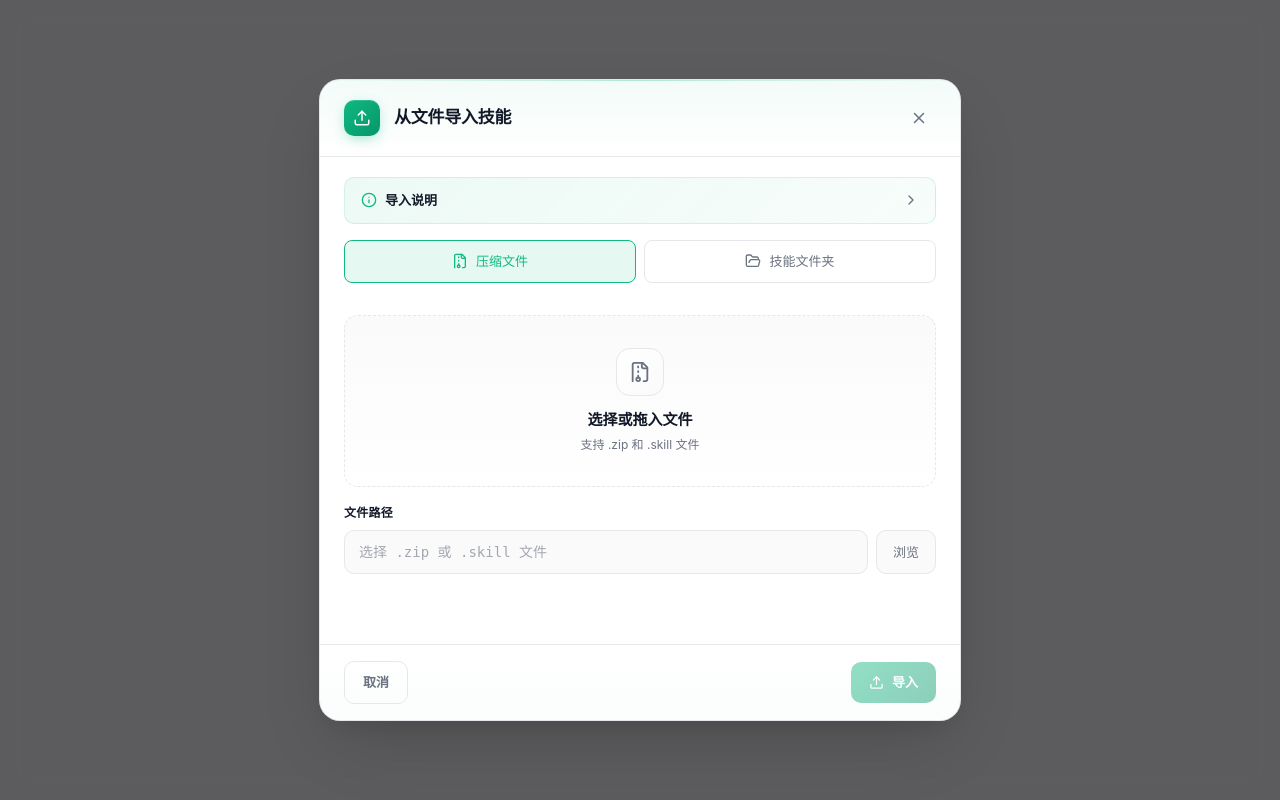
Test: FileImportDialog › switches between file and folder import modes
Expected: the field with placeholder "选择 .zip 或 .skill 文件" is shown, [344, 530, 868, 574]
Click the button "技能文件夹". click: (790, 261)
box: [644, 240, 936, 283]
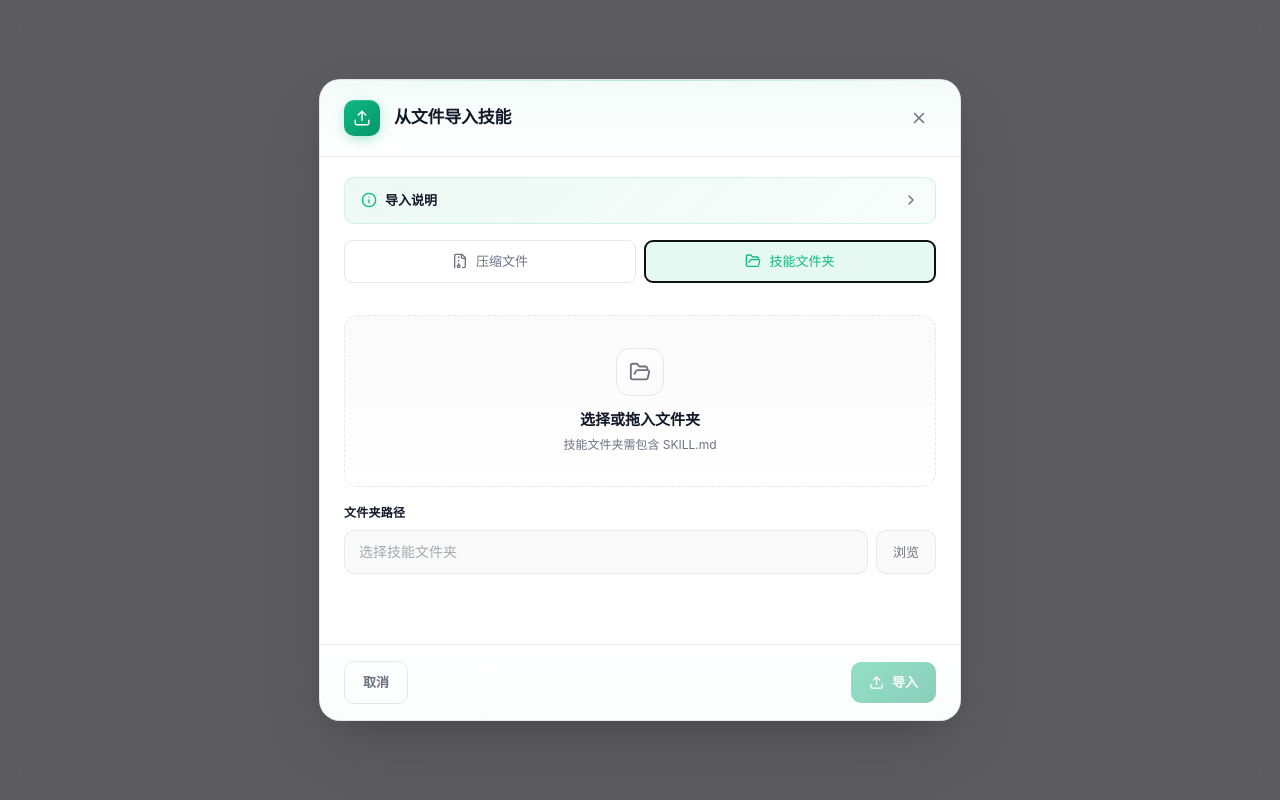
Expected: the field with placeholder "选择技能文件夹" is shown, [344, 530, 868, 574]
